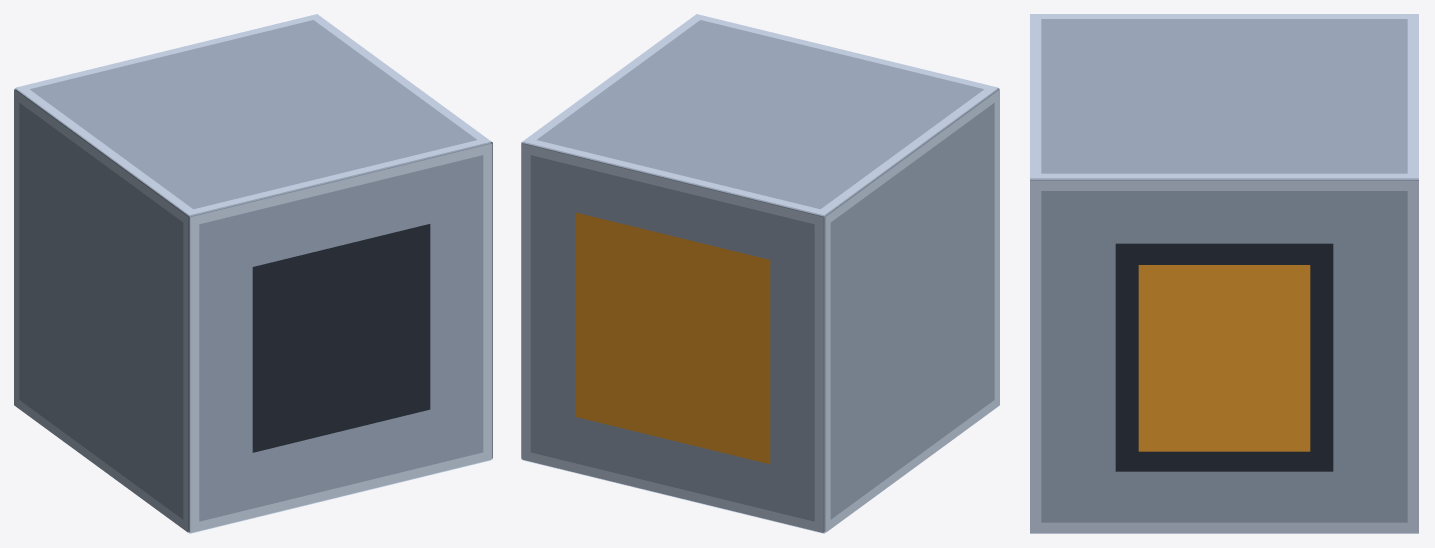
The model's file is robot_body.obj.
3 views of the same model, side by side, from view 1: azimuth 30°, elevation 25°; view 2: azimuth 150°, elevation 25°; view 3: azimuth 270°, elevation 25° (orthographic). The views are drawn at different scales.
Visible parts, largest first — view 1: body, decal; view 2: body, decal; view 3: body, decal.
Boxes of the visible parts, <box> form: body: <box>15,20,491,532</box>; decal: <box>14,14,492,533</box>; body: <box>522,20,998,532</box>; decal: <box>521,14,999,533</box>; body: <box>1030,19,1418,522</box>; decal: <box>1030,14,1418,533</box>.
Size of the model in its own units: 0.692 by 0.686 by 0.686.
